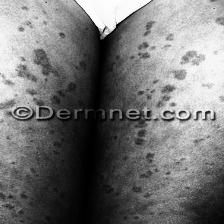Toxin: (126, 20, 224, 106), (0, 19, 77, 100), (125, 125, 209, 193)
